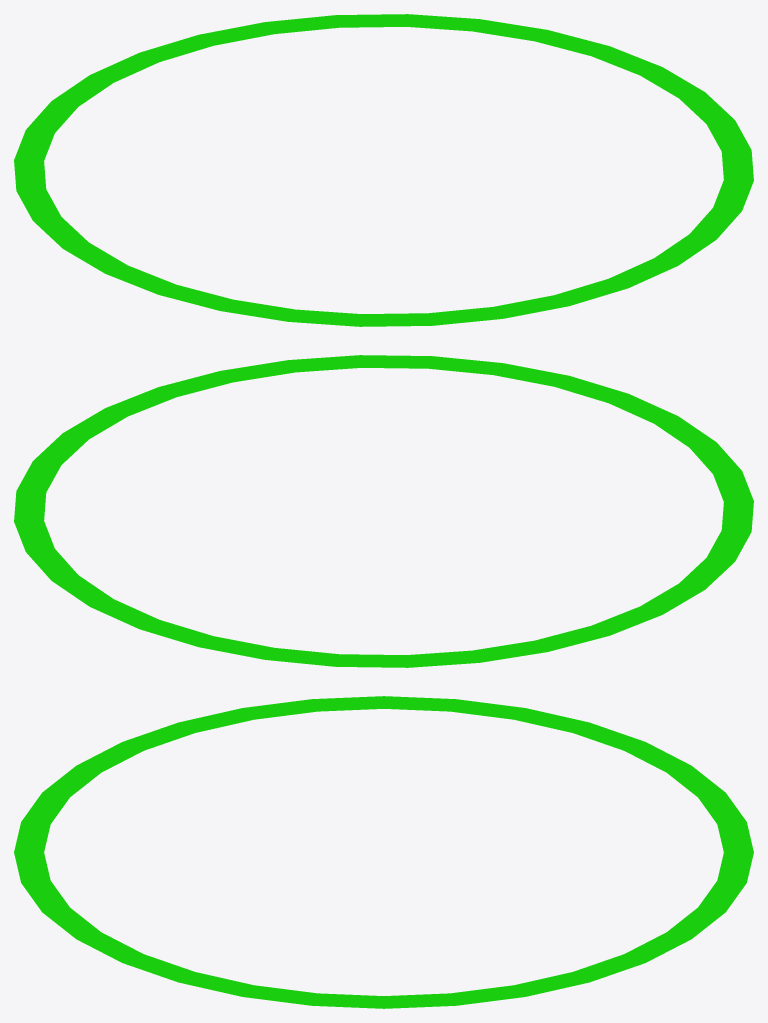
The model's file is circleGreen.fbx.
The picture shows the model from 3 angles, top to bottom: view 1: azimuth 30°, elevation 25°; view 2: azimuth 150°, elevation 25°; view 3: azimuth 270°, elevation 25°; orthographic projection.
Parts seen in each view (by area): view 1: Circle; view 2: Circle; view 3: Circle.
Part boxes in pixels (x1,y1,x2,y2): Circle: (14,14,753,326); Circle: (14,355,753,667); Circle: (14,696,753,1008).
Size of the model in its own units: 195 by 3.18e-05 by 195.
